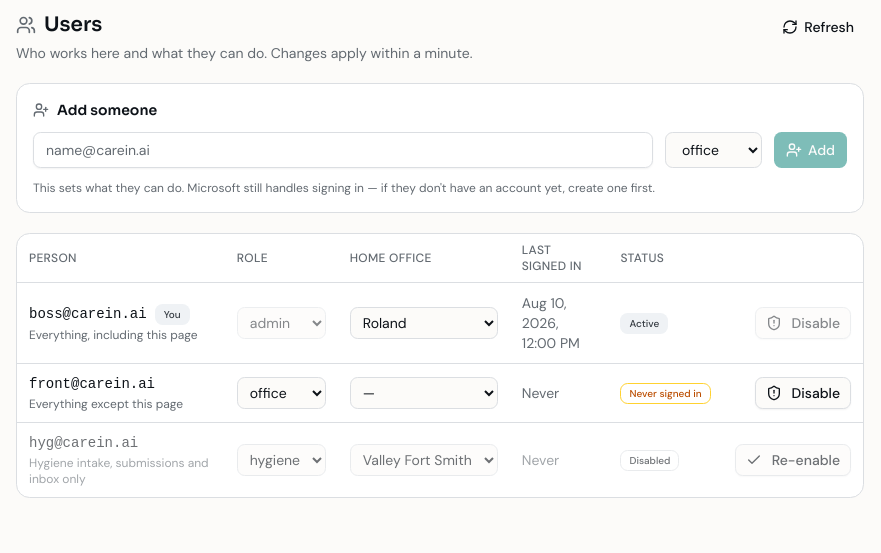
Users page › WARNS about an off-domain address without blocking it
Expected: the row with test id "user-row-front@carein.ai" is shown, [17,364,863,422]
Step 1. Type "contractor@example.com" into the field with test id "add-user-email" → (343, 150), box [33,132,653,168]
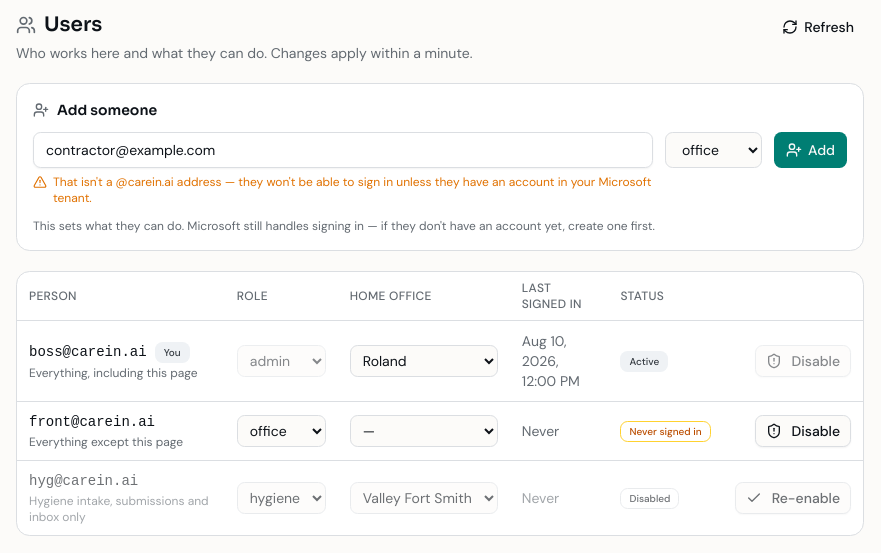
Result: the text "won't be able to sign in" is shown at [53,174,652,206]
Result: the button "Add" is enabled at [774,132,847,168]
